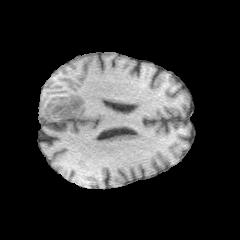glioma: (40, 93, 85, 120)
